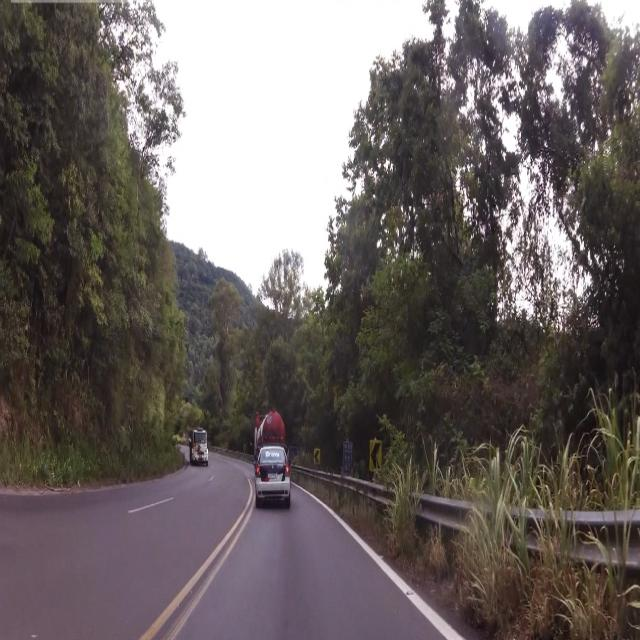Del: (369, 437, 383, 478)
